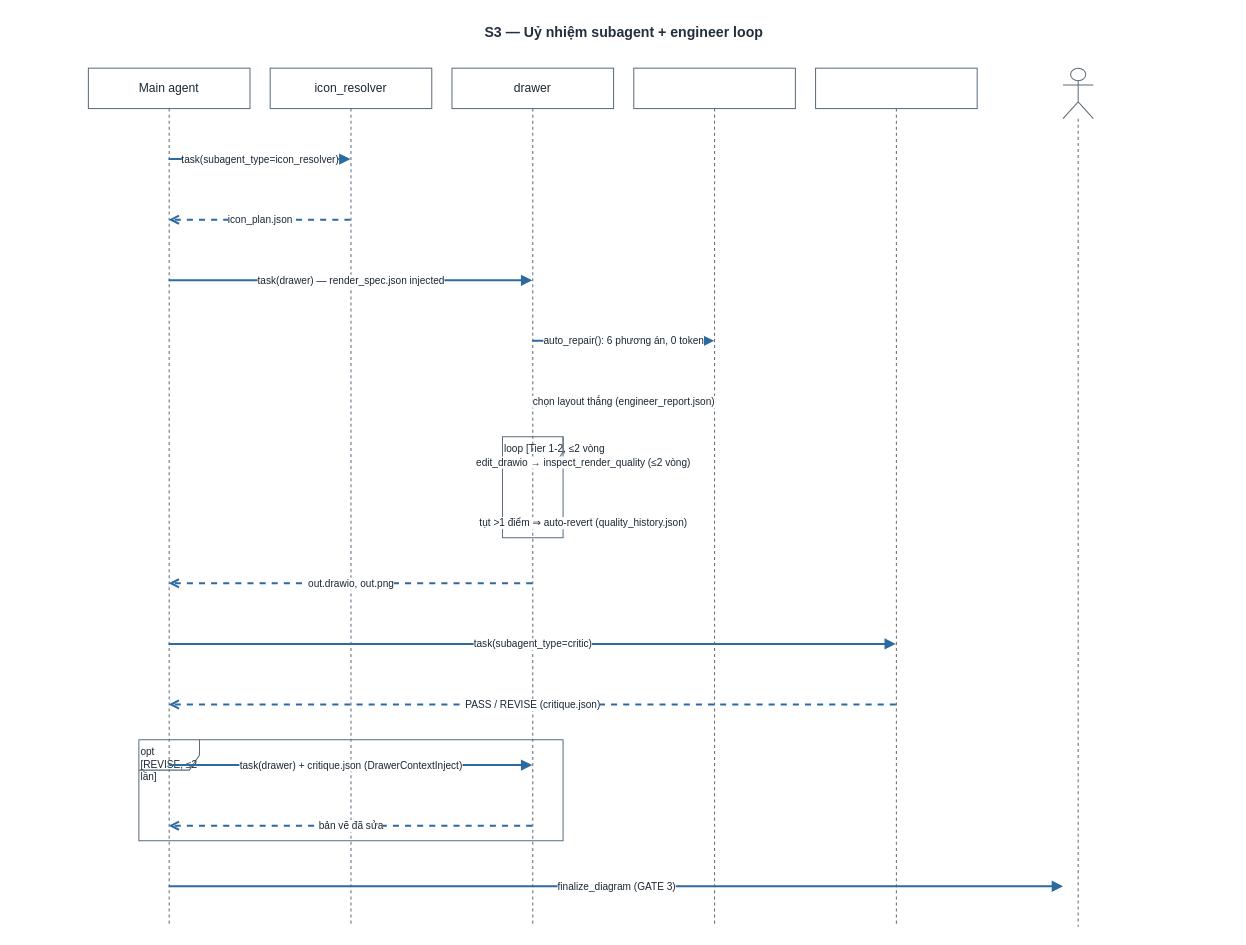
The diagram is 1246 pixels wide and 945 high, and some of its shapes have lost their labels. The shapes that lost their labels are listed below. From the top down, each one's box as (x1, y1, x2, y2) in pixels, then its label:
(1062, 67, 1093, 119): Người duyệt
(633, 67, 795, 927): repair.py (Tier 0)
(815, 67, 977, 927): critic
